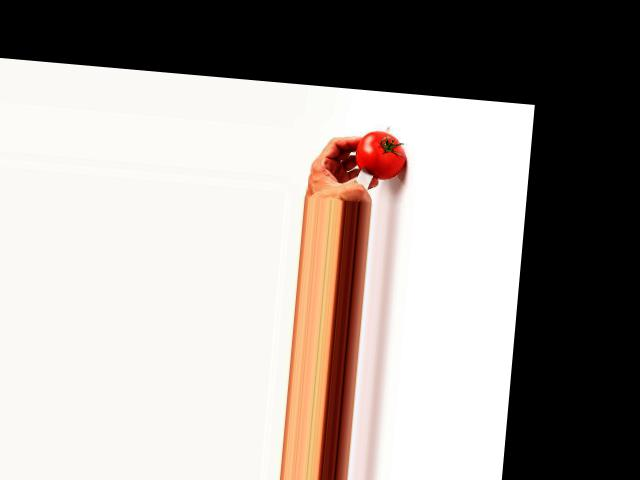tomato: (353, 129, 407, 180)
